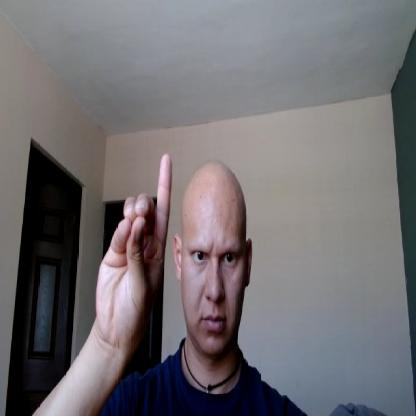D: (96, 153, 172, 345)
